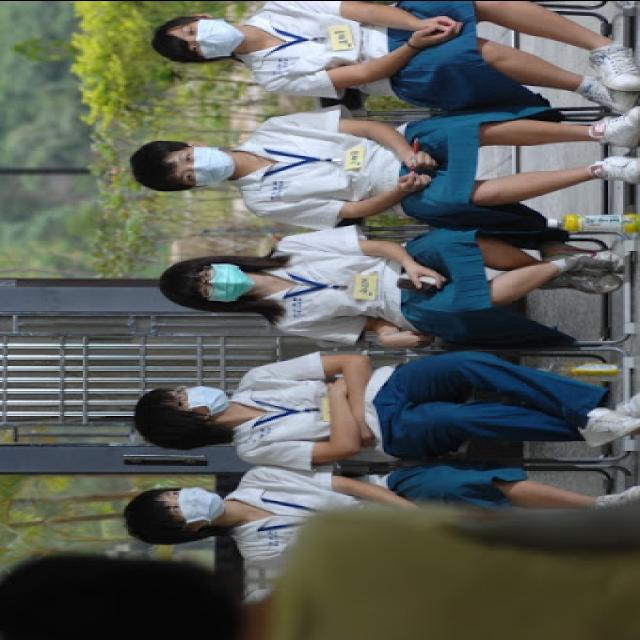mask: (177, 16, 245, 55), (162, 484, 226, 522), (173, 144, 235, 182), (196, 261, 256, 300), (172, 382, 230, 413)
